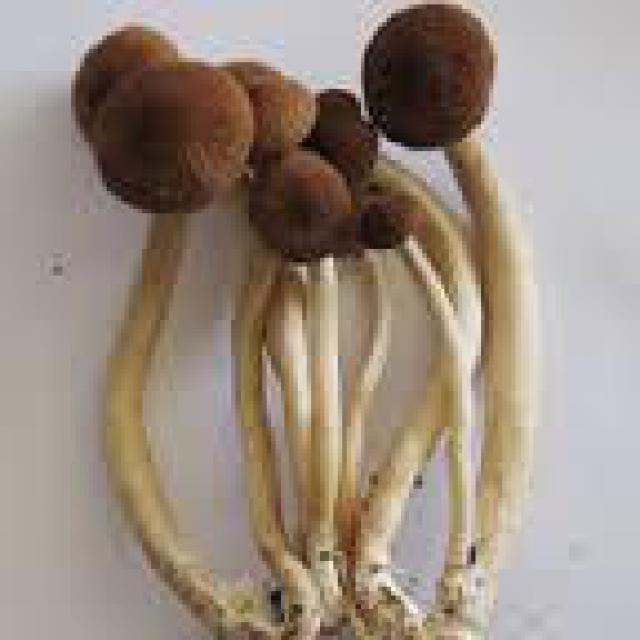Agrocybe aegerita: (79, 8, 533, 640)
